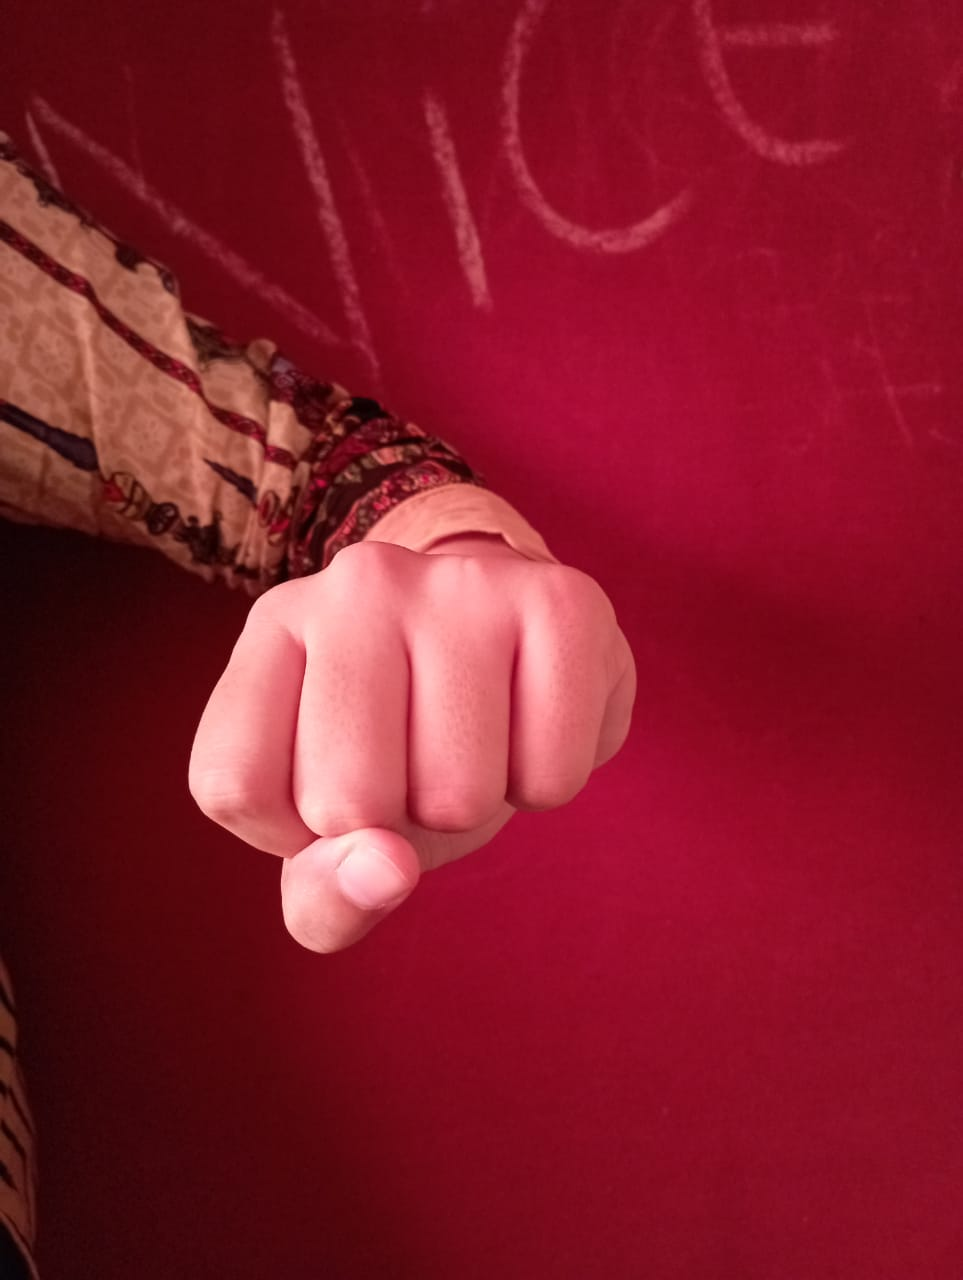BroCode: (150, 533, 660, 974)
